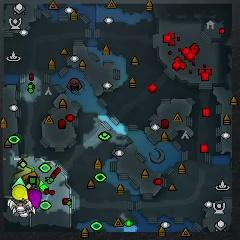p2: (13, 177, 25, 187)
p3: (28, 188, 42, 208)
p4: (13, 184, 28, 201)
x2: (15, 165, 31, 178)
x5: (22, 171, 40, 186)
